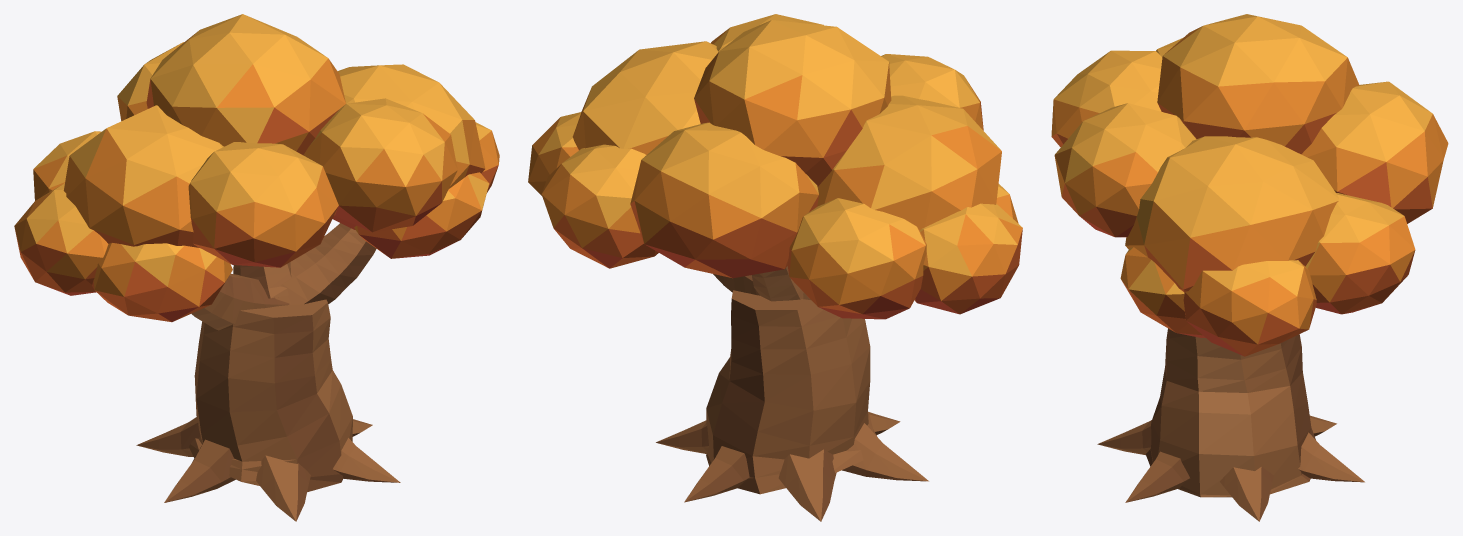
Rendered from FMS_Tree_Oak_Autumn.fbx.
3 renders of one model, left to right at view 1: azimuth 30°, elevation 25°; view 2: azimuth 150°, elevation 25°; view 3: azimuth 270°, elevation 25°, orthographic. The views are drawn at different scales.
Parts seen in each view (by area): view 1: FMS_Tree_Oak_Autumn; view 2: FMS_Tree_Oak_Autumn; view 3: FMS_Tree_Oak_Autumn.
Boxes of the visible parts, x1,y1,x2,y2 form: FMS_Tree_Oak_Autumn: (14, 14, 499, 521); FMS_Tree_Oak_Autumn: (528, 14, 1022, 521); FMS_Tree_Oak_Autumn: (1051, 14, 1448, 521).
Bounding box in the file's own units: 7.45 × 6.63 × 5.49.
